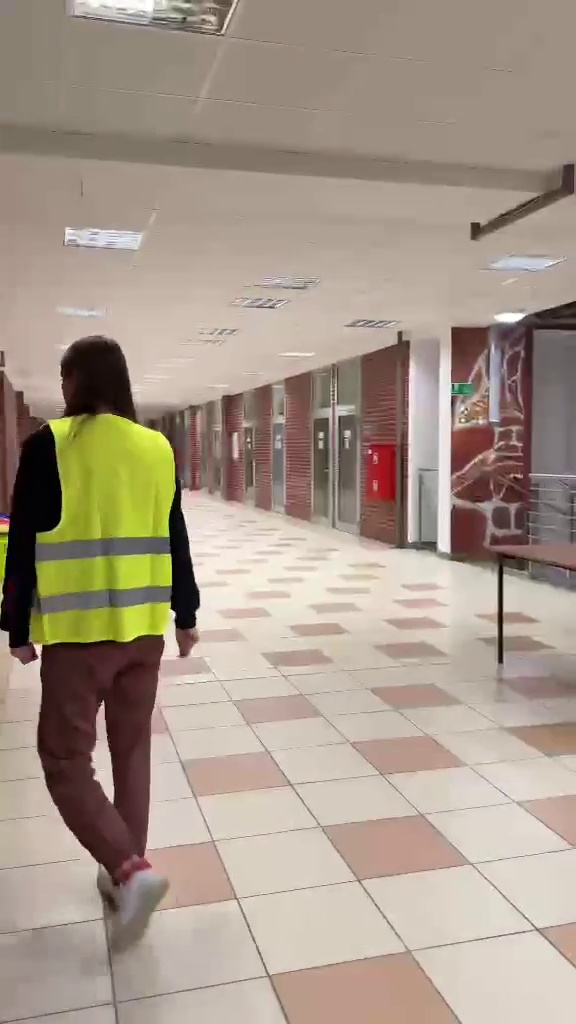vest: (11, 338, 207, 958)
